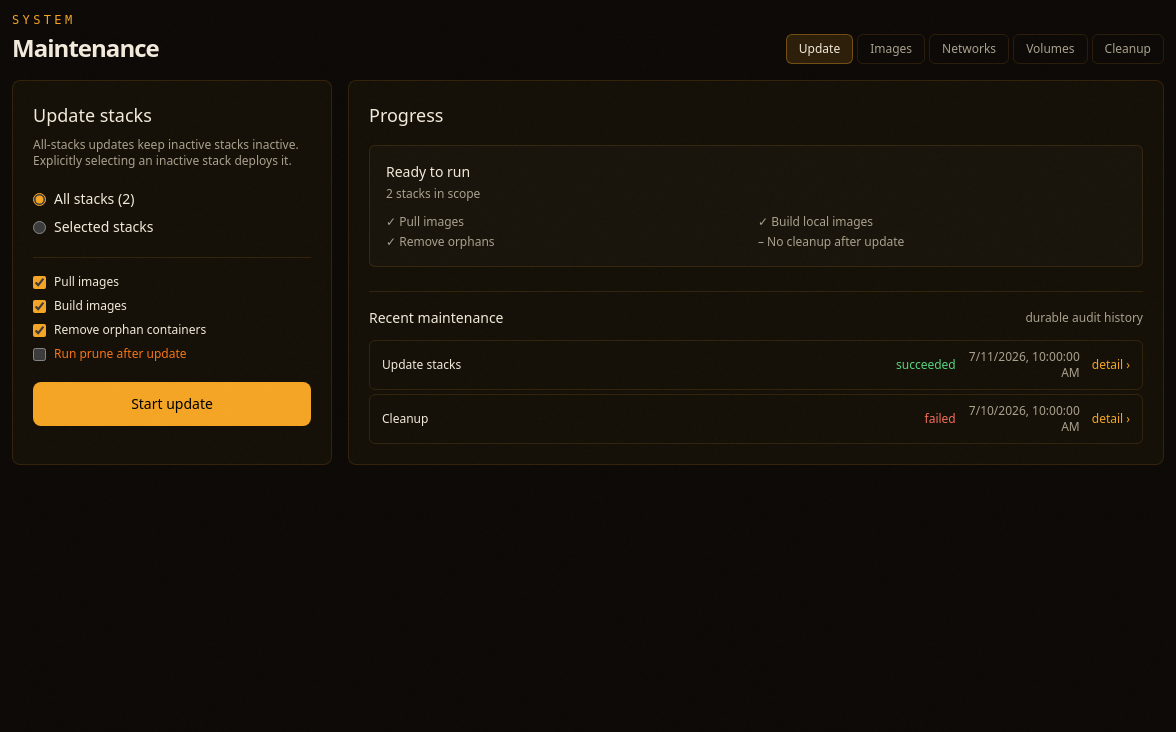
MaintenancePage › shows stack runtime status and a useful idle summary with recent runs
Expected: the text "2 stacks in scope" is shown, [386, 185, 480, 202]
Expected: the list item "✓ Pull images" is shown, [386, 213, 464, 230]
Step 1. Click the radio button labelled "Selected stacks" → (40, 227), box [33, 220, 46, 234]
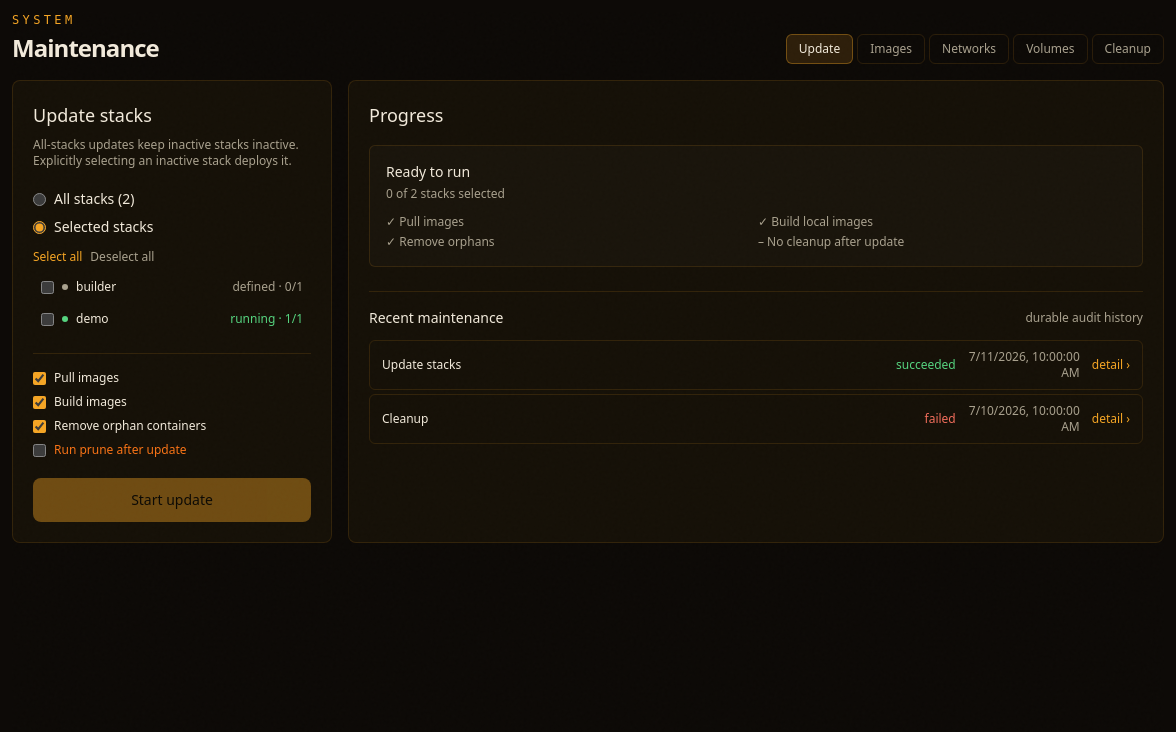
Now the text "defined · 0/1" is shown, box [232, 279, 303, 295]
Now the text "running · 1/1" is shown, box [230, 311, 303, 327]
